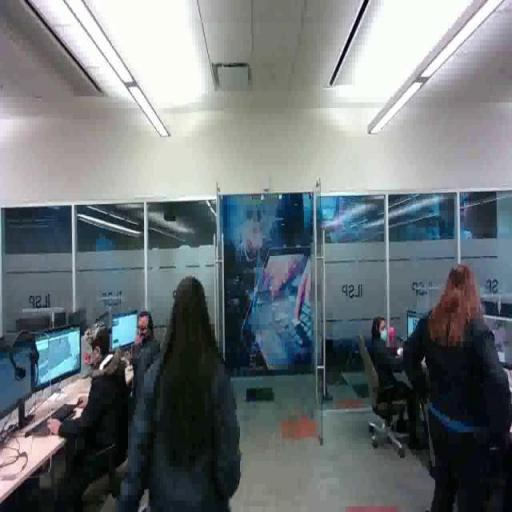person: (124, 270, 241, 512), (401, 257, 512, 512), (58, 320, 131, 482), (365, 311, 422, 433), (112, 304, 163, 403)
